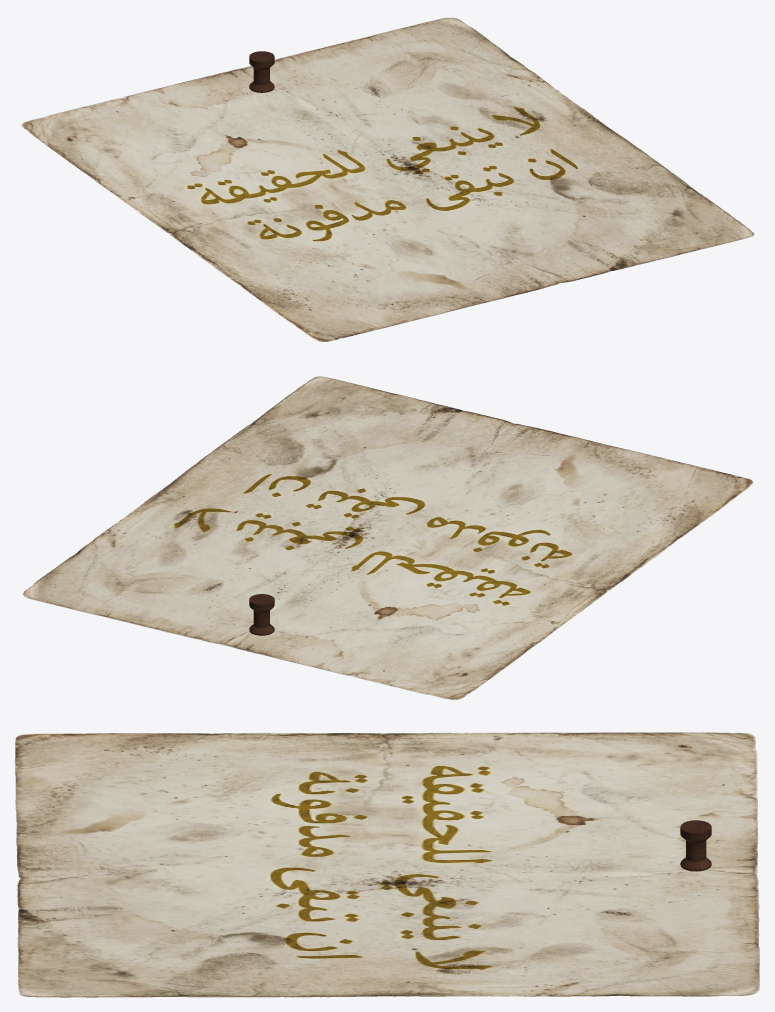
The model's file is DigNote1.fbx.
3 renders of one model, top to bottom at view 1: azimuth 30°, elevation 25°; view 2: azimuth 150°, elevation 25°; view 3: azimuth 270°, elevation 25°, orthographic. The views are drawn at different scales.
Visible parts, largest first — view 1: pCube2; view 2: pCube2; view 3: pCube2.
Boxes of the visible parts, box(x1,y1,x2,y2) form: pCube2: box(21, 17, 754, 341); pCube2: box(23, 376, 753, 700); pCube2: box(14, 732, 759, 997).
Bounding box in the file's own units: 69.18 × 4.63 × 82.18.
Materials: 2 (2 with a texture image).
